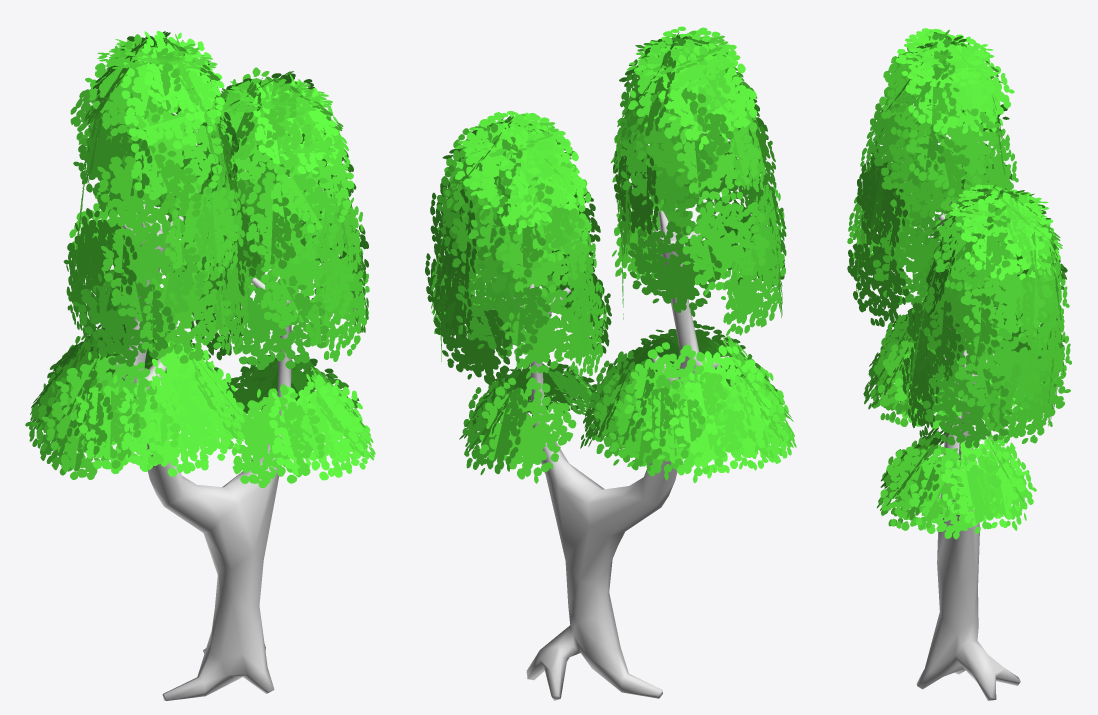
File: Tree02.fbx
3 views of the same model, side by side, from view 1: azimuth 30°, elevation 25°; view 2: azimuth 150°, elevation 25°; view 3: azimuth 270°, elevation 25° (orthographic). The views are drawn at different scales.
Visible parts, largest first — view 1: Tree02; view 2: Tree02; view 3: Tree02.
Boxes of the visible parts, x1,y1,x2,y2 form: Tree02: (25,31,375,700); Tree02: (425,26,796,700); Tree02: (847,28,1071,700).
Bounding box in the file's own units: 3.63 × 10 × 5.33.
